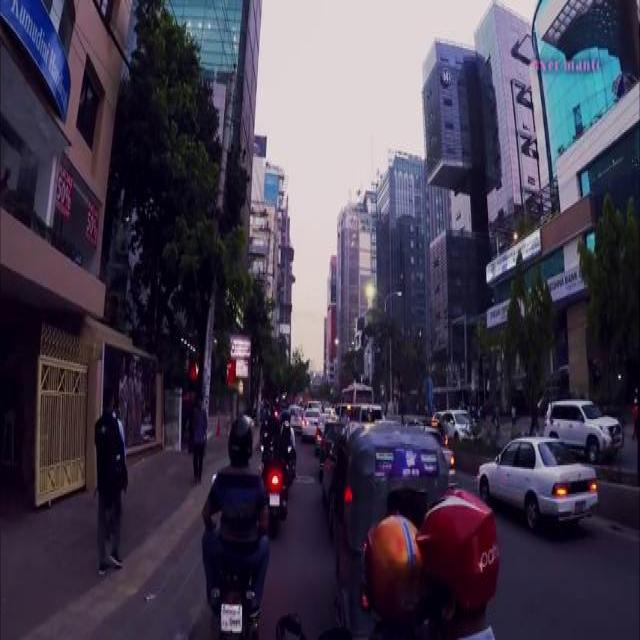bus: (339, 380, 373, 406)
car: (474, 433, 596, 528), (438, 406, 474, 437), (312, 413, 336, 448), (300, 406, 320, 434), (288, 403, 304, 426)
motorbike: (210, 557, 258, 637), (258, 438, 290, 532)
suv: (542, 396, 624, 458)
three wheelers -CNG-: (333, 421, 447, 631)
